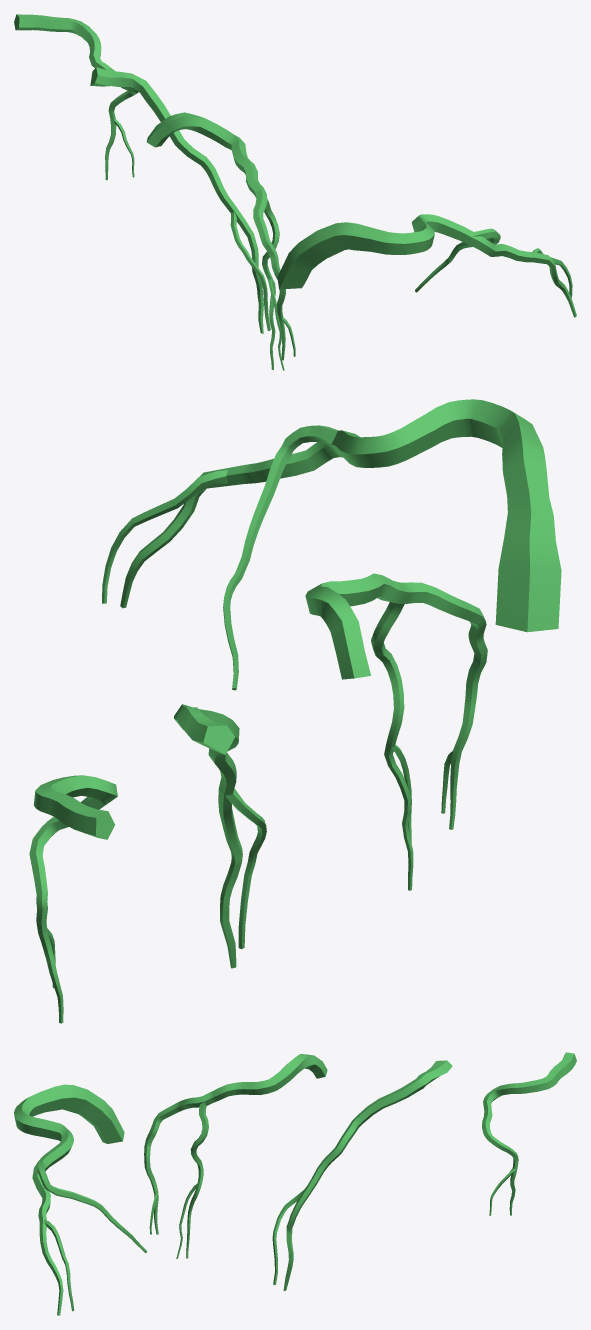
The model's file is roots_solos_C.fbx.
3 renders of one model, top to bottom at view 1: azimuth 30°, elevation 25°; view 2: azimuth 150°, elevation 25°; view 3: azimuth 270°, elevation 25°, orthographic. The views are drawn at different scales.
Visible parts, largest first — view 1: roots_solos_C_A, roots_solos_C_B, roots_solos_C_C, roots_solos_C_D; view 2: roots_solos_C_A, roots_solos_C_B, roots_solos_C_C, roots_solos_C_D; view 3: roots_solos_C_A, roots_solos_C_B, roots_solos_C_C, roots_solos_C_D.
Part boxes in pixels (x1,y1,x2,y2): roots_solos_C_A: (277, 214, 576, 317); roots_solos_C_B: (146, 112, 295, 370); roots_solos_C_C: (90, 67, 270, 333); roots_solos_C_D: (14, 14, 138, 180); roots_solos_C_A: (102, 399, 561, 690); roots_solos_C_B: (305, 573, 487, 890); roots_solos_C_C: (174, 704, 266, 968); roots_solos_C_D: (29, 775, 117, 1023); roots_solos_C_A: (14, 1084, 147, 1315); roots_solos_C_B: (144, 1054, 327, 1258); roots_solos_C_C: (272, 1060, 452, 1290); roots_solos_C_D: (482, 1052, 576, 1215).
Size of the model in its own units: 474 by 360 by 895.
